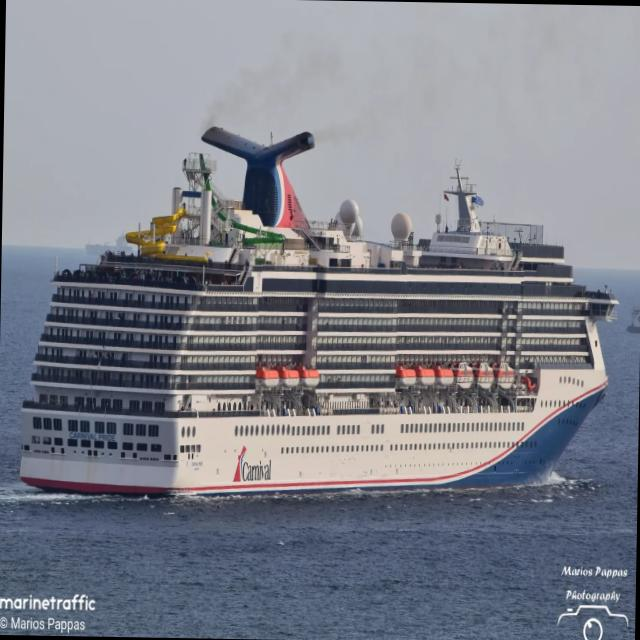Cruise: (18, 122, 620, 503)
